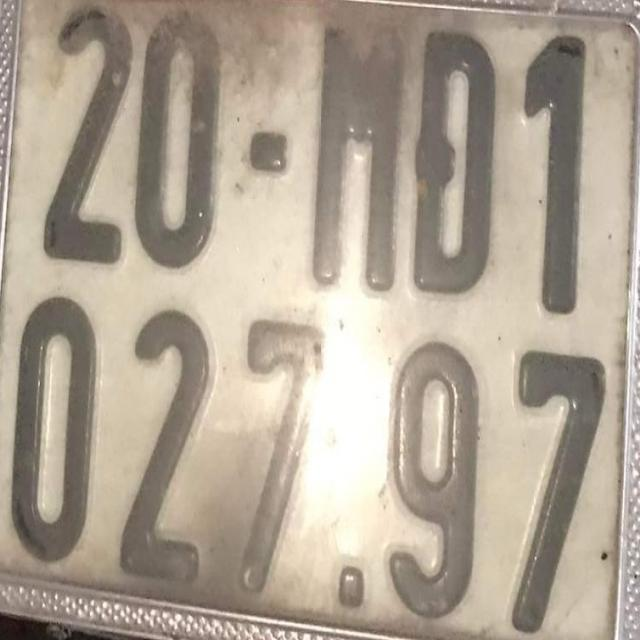0: (5, 289, 102, 568), (136, 5, 225, 266)
1: (515, 30, 597, 317)
2: (113, 297, 215, 585), (37, 2, 132, 273)
7: (501, 346, 609, 636), (237, 315, 326, 597)
9: (374, 339, 487, 623)
D: (409, 26, 503, 300)
M: (308, 13, 405, 302)
